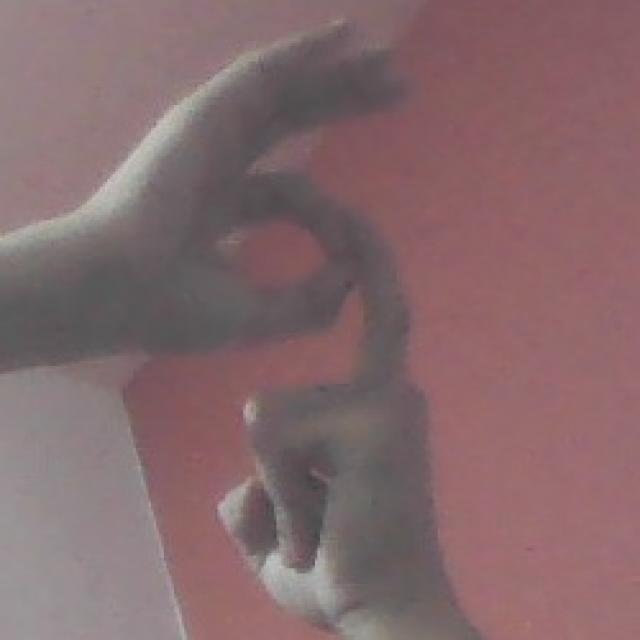Alphabet-P: (87, 5, 476, 640)
